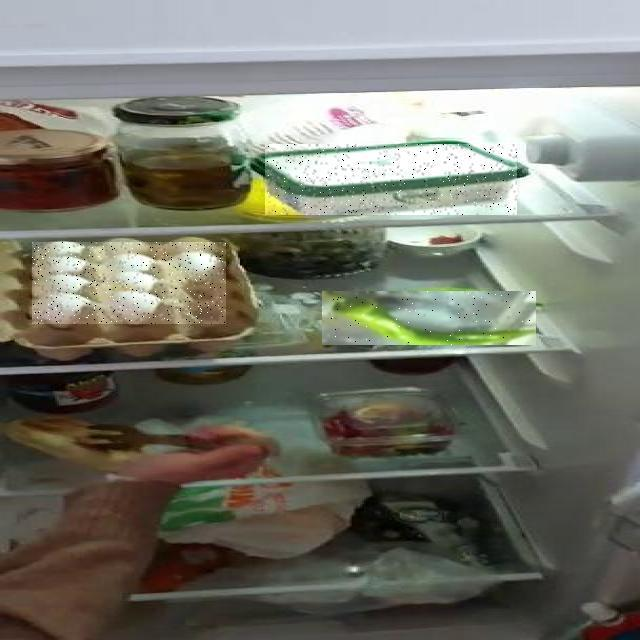egg: (0, 162, 145, 486)
